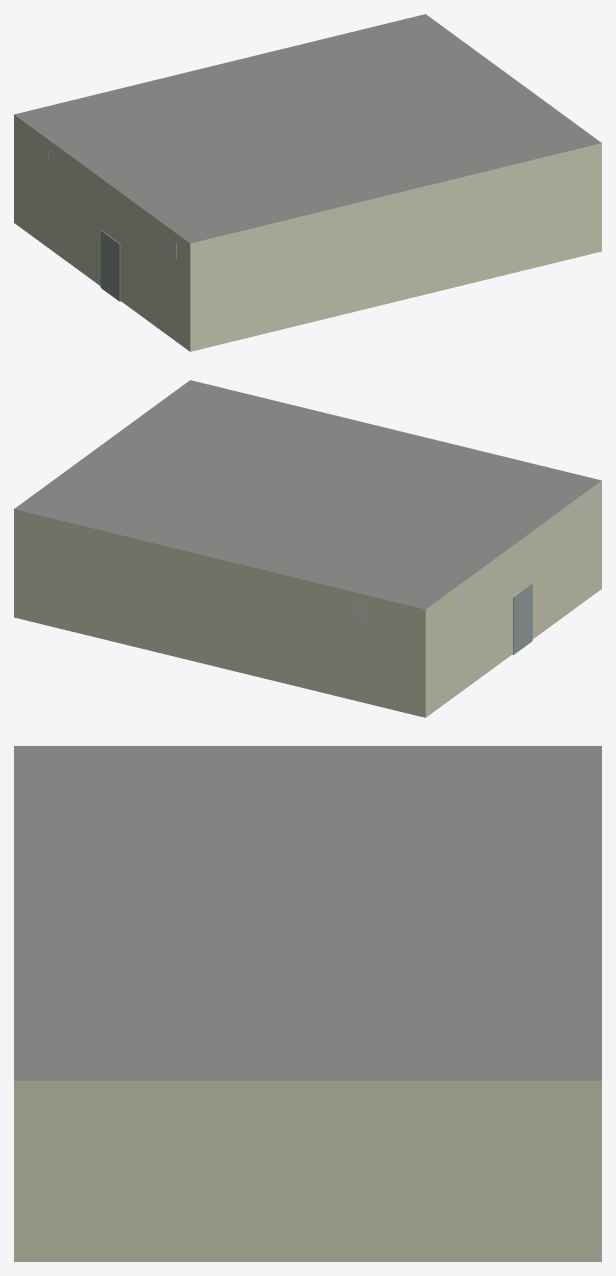
The model's file is Laboratory.fbx.
The picture shows the model from 3 angles, top to bottom: view 1: azimuth 30°, elevation 25°; view 2: azimuth 150°, elevation 25°; view 3: azimuth 270°, elevation 25°; orthographic projection. The views are drawn at different scales.
Parts seen in each view (by area): view 1: Куб, Door; view 2: Куб, Door; view 3: Куб.
Boxes of the visible parts, left/top/right/bottom form: Куб: left=14, top=14, right=601, bottom=351; Door: left=100, top=230, right=120, bottom=301; Куб: left=14, top=380, right=601, bottom=717; Door: left=512, top=583, right=532, bottom=654; Куб: left=14, top=746, right=601, bottom=1261.
Bounding box in the file's own units: 17.16 × 4.35 × 12.71.
